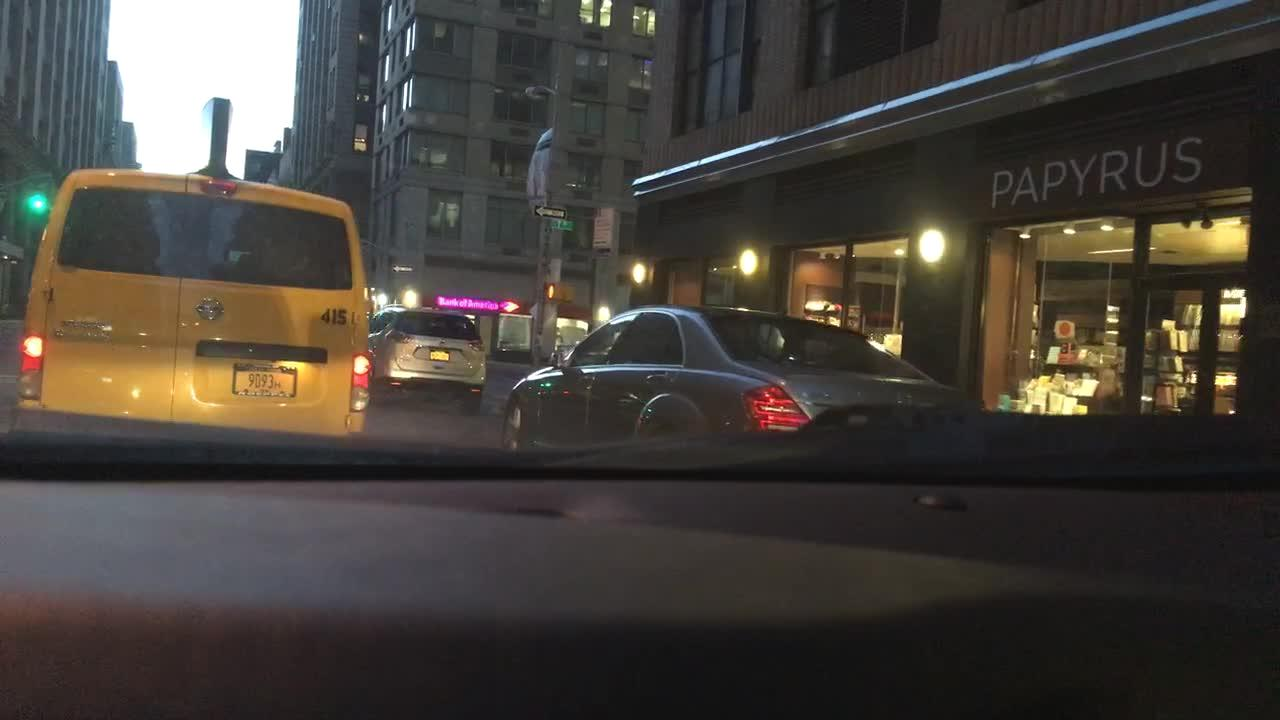Nissan: (190, 292, 227, 327)
